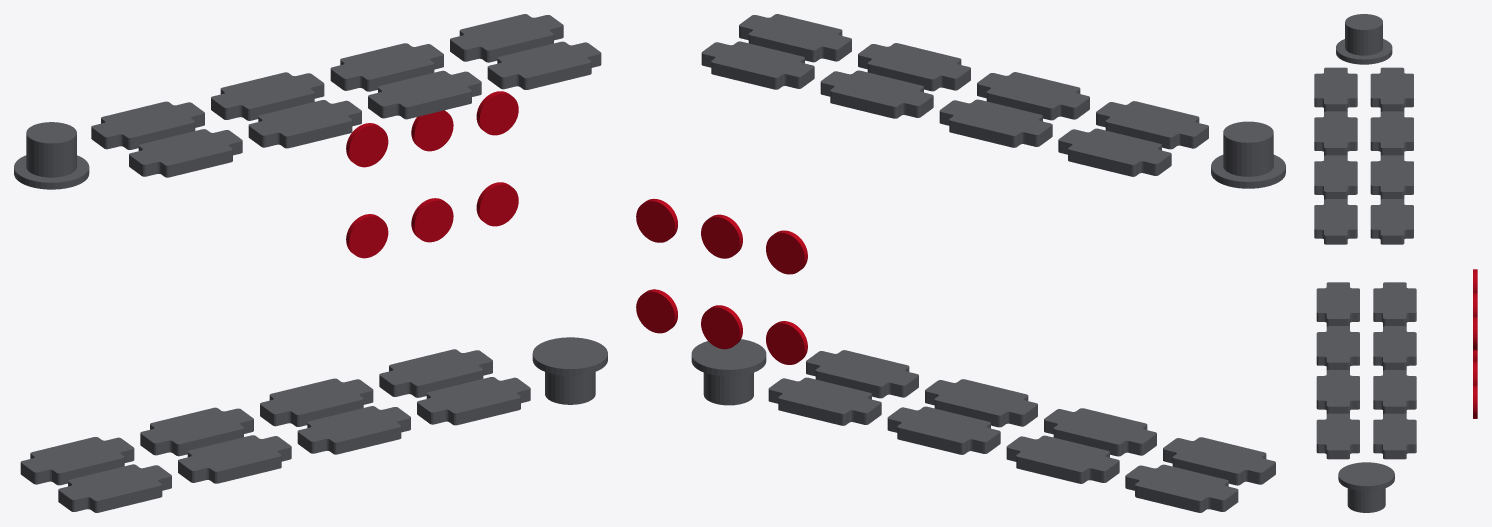
Rendered from buttons_link.DAE.
The picture shows the model from 3 angles, left to right: view 1: azimuth 30°, elevation 25°; view 2: azimuth 150°, elevation 25°; view 3: azimuth 270°, elevation 25°; orthographic projection. The views are drawn at different scales.
Visible parts, largest first — view 1: buttons_link; view 2: buttons_link; view 3: buttons_link.
Boxes of the visible parts, x1=… form: buttons_link: x1=14, y1=14, x2=607, y2=512; buttons_link: x1=636, y1=14, x2=1285, y2=512; buttons_link: x1=1314, y1=14, x2=1477, y2=512.
Bounding box in the file's own units: 0.2693 × 0.0868 × 0.1713.
